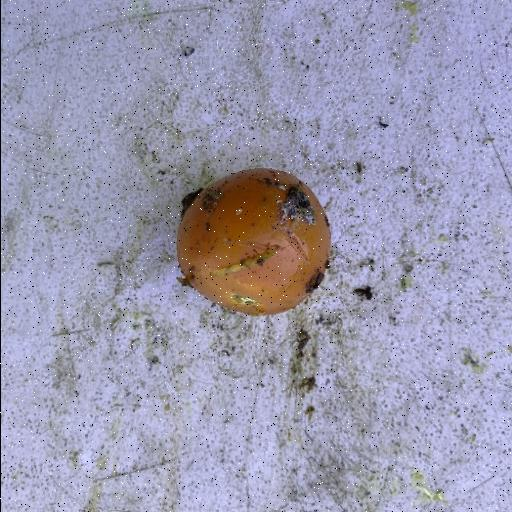Waste: (174, 166, 332, 316)
